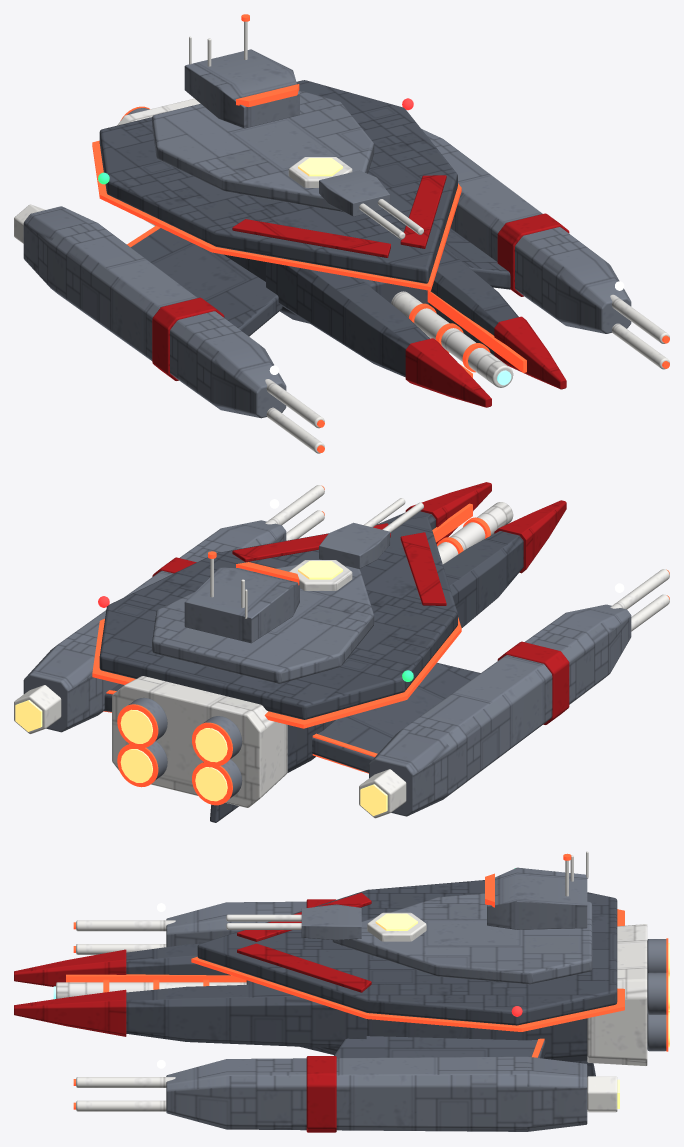
File: spiral_warden.glb
The picture shows the model from 3 angles, top to bottom: view 1: azimuth 30°, elevation 25°; view 2: azimuth 150°, elevation 25°; view 3: azimuth 270°, elevation 25°; orthographic projection. The views are drawn at different scales.
Parts seen in each view (by area): view 1: Deck, PodL, Deck2, PodR, ProngL, StrutL, Bridge, ProngR, DeckGlow, ProngCapL, Railgun, ProngCapR (+15 smaller); view 2: Deck, PodL, Deck2, EngineBlock, PodR, Bridge, StrutL, ProngL, DeckGlow, Turret, ChevronL, ProngCapL (+27 smaller); view 3: PodR, Deck, Deck2, ProngR, EngineBlock, Bridge, Core, StrutR, ProngCapR, DeckGlow, PodL, PodBandR (+19 smaller).
Boxes of the visible parts, bbox=[...] form: Deck: bbox=[99, 80, 457, 283]; PodL: bbox=[23, 206, 286, 418]; Deck2: bbox=[152, 90, 374, 212]; PodR: bbox=[421, 129, 631, 333]; ProngL: bbox=[266, 262, 429, 377]; StrutL: bbox=[131, 228, 282, 336]; Bridge: bbox=[184, 49, 299, 128]; ProngR: bbox=[428, 247, 518, 355]; DeckGlow: bbox=[92, 140, 461, 290]; ProngCapL: bbox=[405, 338, 491, 407]; Railgun: bbox=[391, 291, 513, 387]; ProngCapR: bbox=[494, 316, 566, 389]; Deck: bbox=[99, 516, 457, 719]; PodL: bbox=[369, 604, 631, 816]; Deck2: bbox=[152, 564, 374, 683]; EngineBlock: bbox=[112, 676, 287, 807]; PodR: bbox=[23, 520, 286, 732]; Bridge: bbox=[184, 567, 299, 643]; StrutL: bbox=[312, 662, 480, 772]; ProngL: bbox=[443, 531, 523, 627]; DeckGlow: bbox=[92, 617, 461, 728]; Turret: bbox=[319, 522, 390, 568]; ChevronL: bbox=[400, 532, 446, 605]; ProngCapL: bbox=[494, 500, 566, 573]; PodR: bbox=[166, 1056, 587, 1131]; Deck: bbox=[197, 880, 617, 1025]; Deck2: bbox=[332, 893, 592, 984]; ProngR: bbox=[126, 984, 366, 1048]; EngineBlock: bbox=[587, 924, 647, 1065]; Bridge: bbox=[487, 867, 587, 929]; Core: bbox=[246, 980, 587, 1061]; StrutR: bbox=[334, 1036, 545, 1058]; ProngCapR: bbox=[14, 989, 126, 1036]; DeckGlow: bbox=[191, 909, 624, 1031]; PodL: bbox=[166, 901, 306, 946]; PodBandR: bbox=[306, 1056, 336, 1132].
Size of the model in its own units: 0.431 by 0.26 by 0.6545.
Materials: 10 (4 with a texture image).
